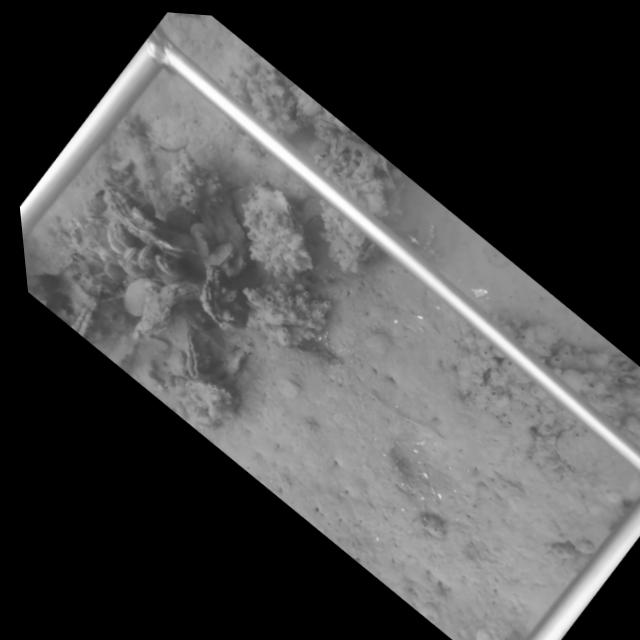Oyster-Closed: (95, 174, 198, 257), (241, 184, 316, 274), (128, 282, 198, 342), (197, 268, 238, 335), (203, 243, 237, 268), (156, 254, 180, 278), (133, 245, 153, 272)
Oyster-Open: (183, 318, 216, 384), (69, 301, 96, 340), (104, 221, 129, 256)
